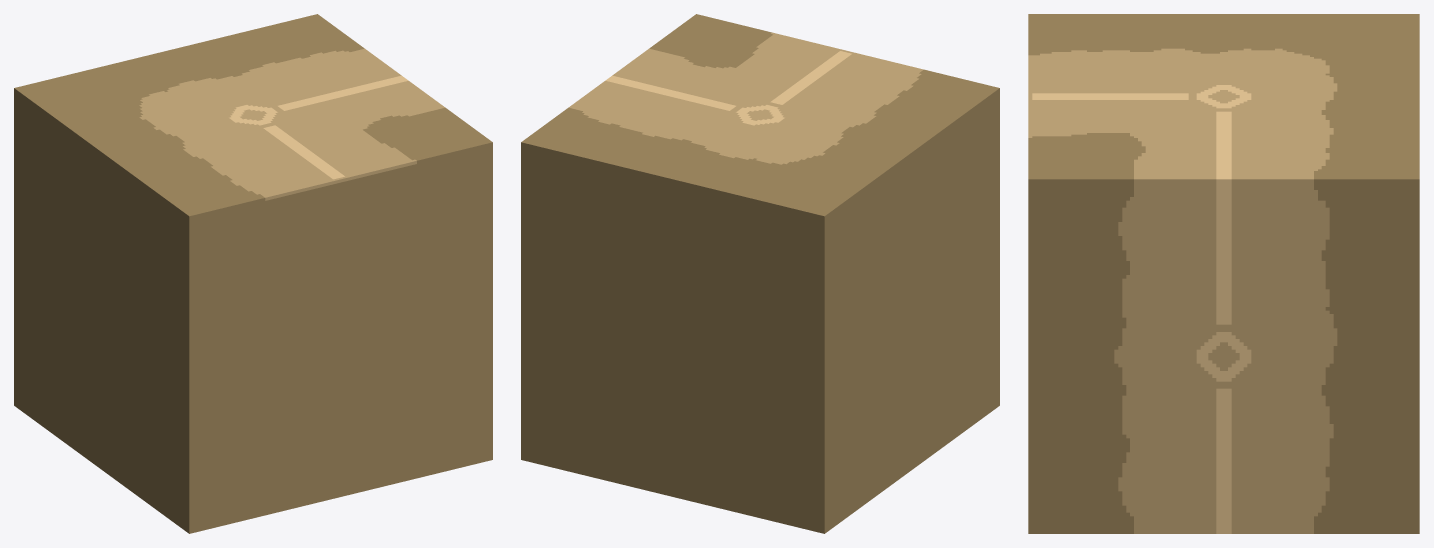
The model's file is floor2b_wallx2a.obj.
3 renders of one model, left to right at view 1: azimuth 30°, elevation 25°; view 2: azimuth 150°, elevation 25°; view 3: azimuth 270°, elevation 25°, orthographic. The views are drawn at different scales.
Visible parts, largest first — view 1: floor2b_wallx2a; view 2: floor2b_wallx2a; view 3: floor2b_wallx2a.
Part boxes in pixels (bbox=[...]): floor2b_wallx2a: bbox=[14, 14, 492, 533]; floor2b_wallx2a: bbox=[521, 14, 999, 533]; floor2b_wallx2a: bbox=[1028, 14, 1419, 533].
Bounding box in the file's own units: 100 × 100 × 100.
Materials: 1 (1 with a texture image).
